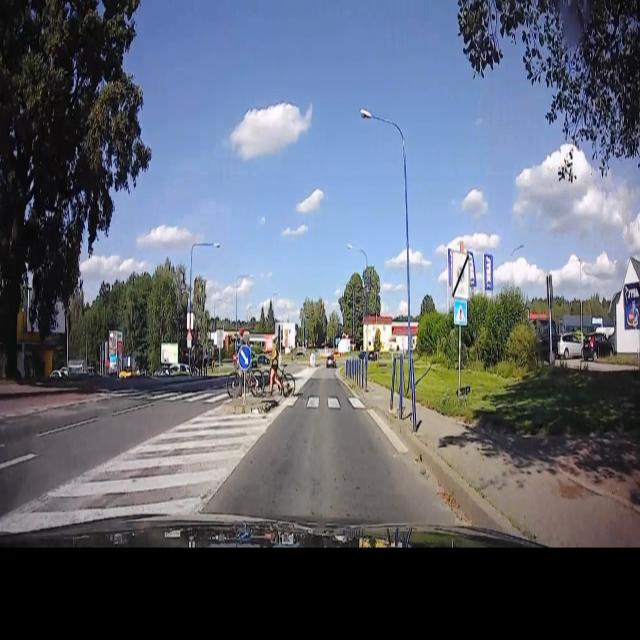Pedestrian crosswalk: (98, 378, 236, 411), (228, 323, 264, 398), (274, 390, 370, 412), (450, 297, 470, 330)
